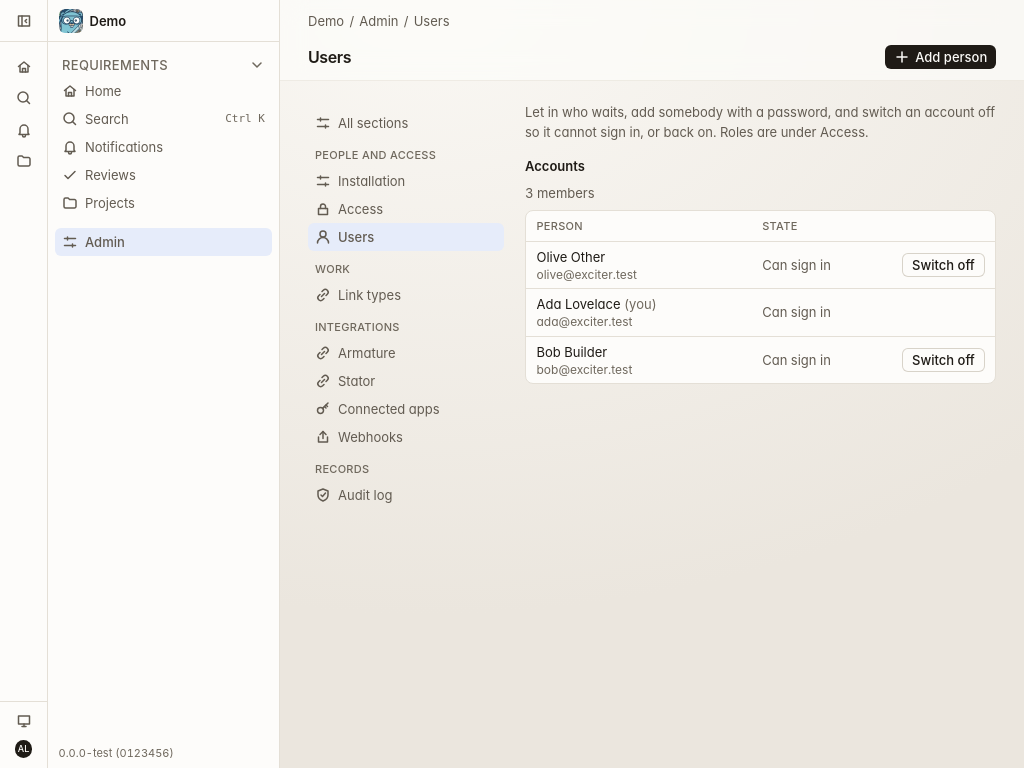
Test: the Users page › switches somebody off once confirmed and keeps them listed, then on again
Click the button with aria-label "Switch Bob Builder off" at (943, 360), box [902,348,984,372]
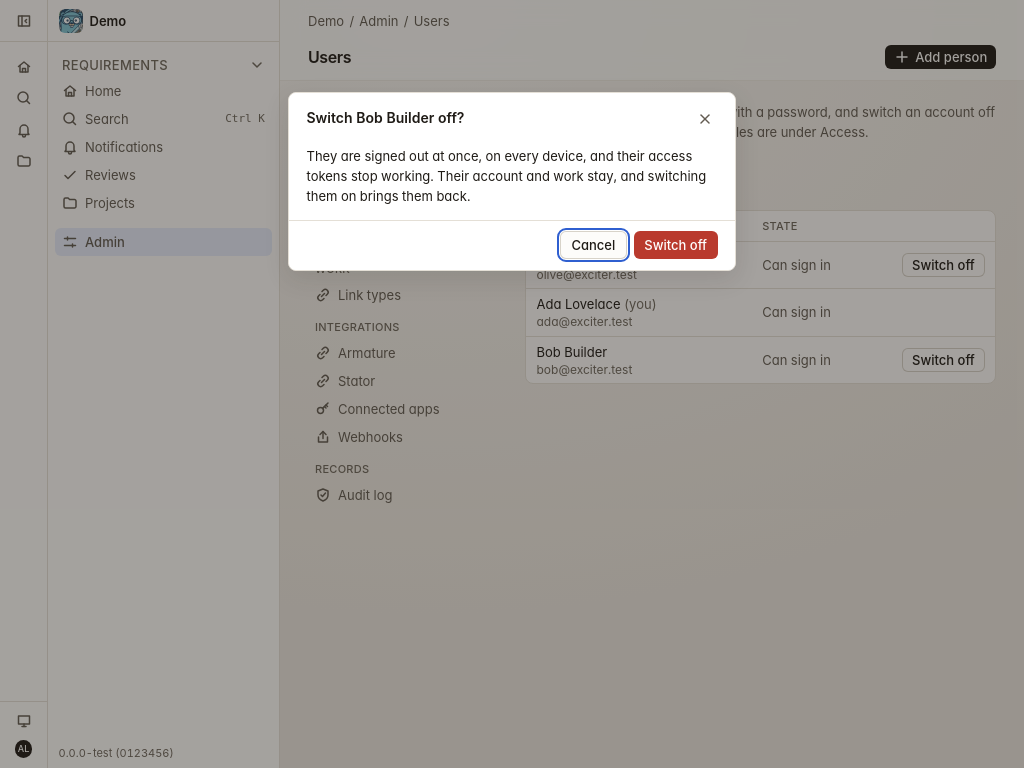
Click the button "Switch off" at (676, 245), box [634,231,718,259]
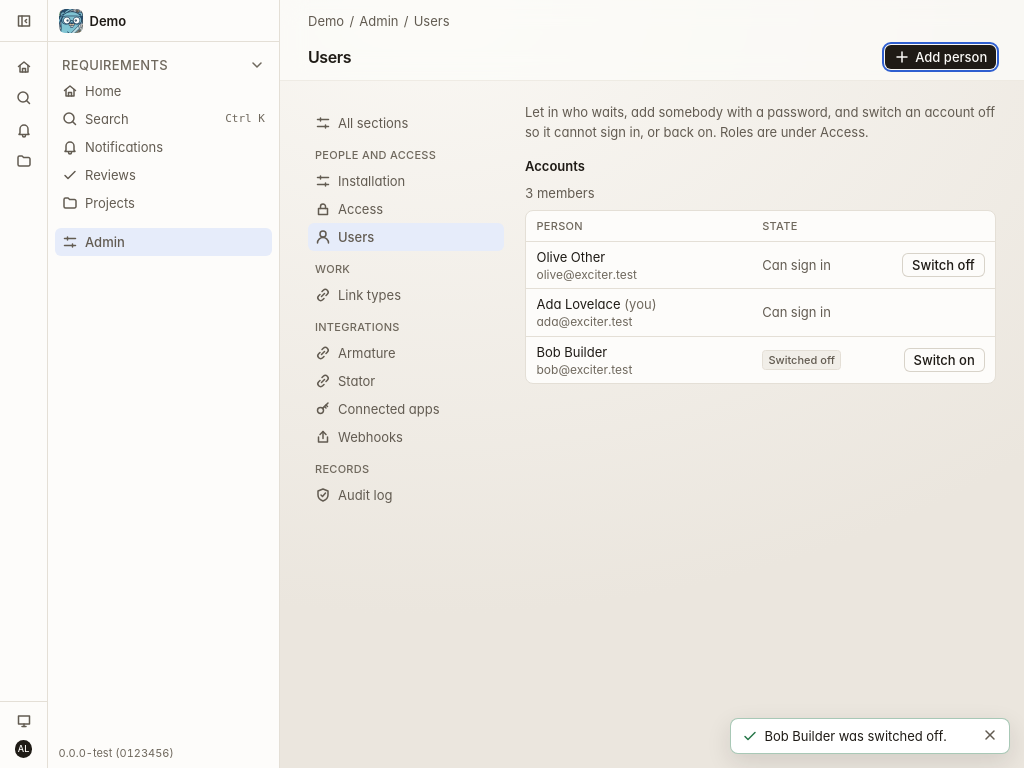
expect the dialog is gone: met
expect the text "Bob Builder was switched off." is shown: met, box [764,726,970,746]
expect the text "Switched off" is shown: met, box [762,350,841,370]
Click the button with aria-label "Switch Bob Builder on" at (944, 360), box [904,348,985,372]
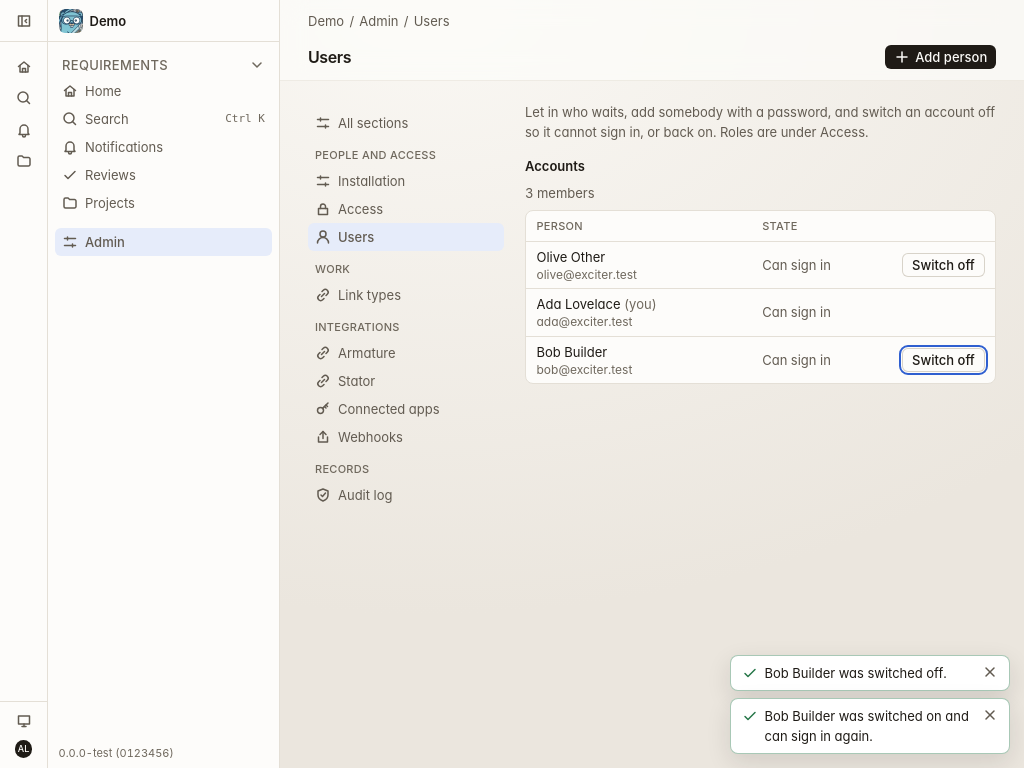
expect the text "Bob Builder was switched on and can sign in again." is shown: met, box [764,706,970,746]
